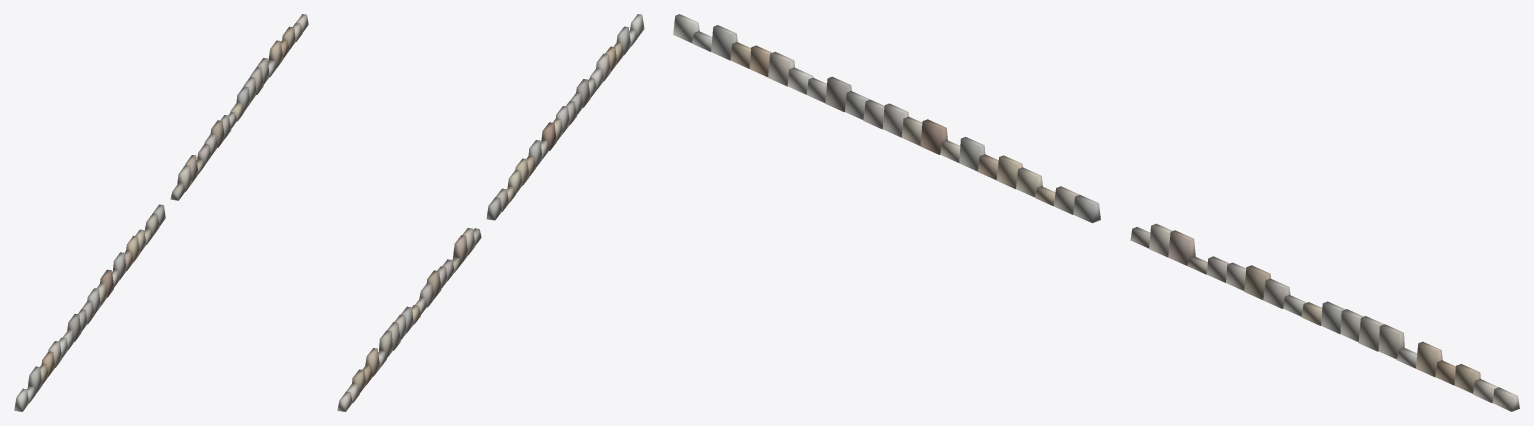
The model's file is farm_26_16_collision.glb.
3 renders of one model, left to right at view 1: azimuth 30°, elevation 25°; view 2: azimuth 210°, elevation 25°; view 3: azimuth 270°, elevation 25°, orthographic. The views are drawn at different scales.
Visible parts, largest first — view 1: geometry_0; view 2: geometry_0; view 3: geometry_0.
Part boxes in pixels (<box>): geometry_0: <box>14,14,308,411</box>; geometry_0: <box>337,14,644,411</box>; geometry_0: <box>673,14,1519,411</box>.
Bounding box in the file's own units: 52.24 × 2.3 × 47.47.
